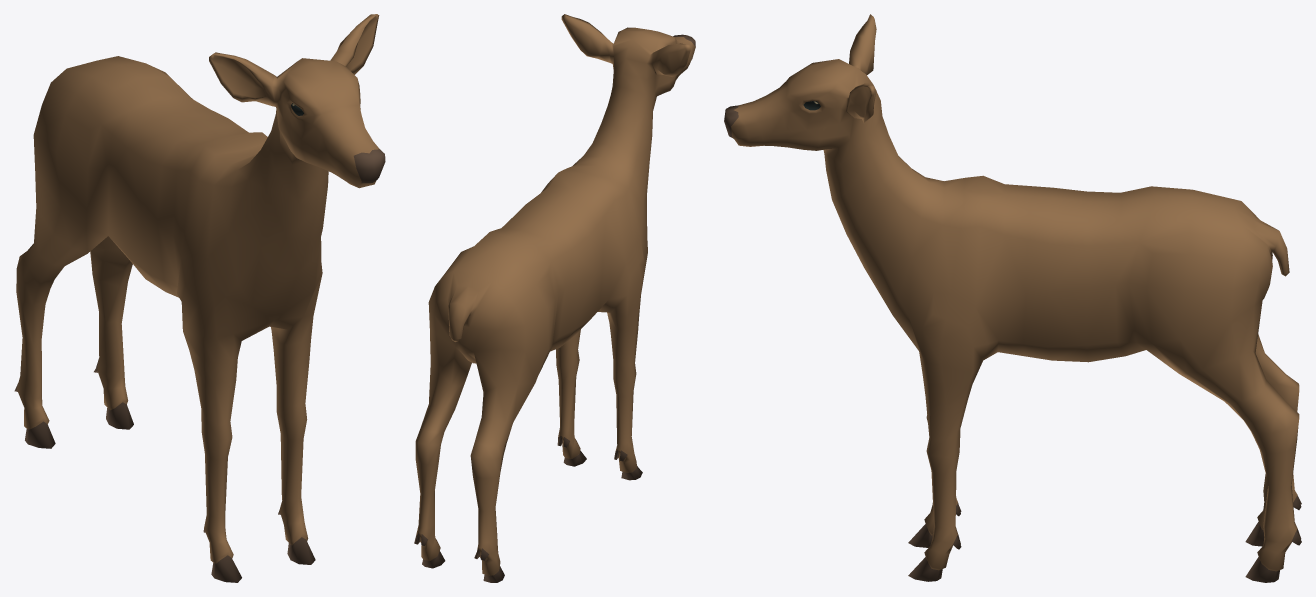
The model's file is deer-slender-doe.glb.
3 renders of one model, left to right at view 1: azimuth 30°, elevation 25°; view 2: azimuth 150°, elevation 25°; view 3: azimuth 270°, elevation 25°, orthographic. The views are drawn at different scales.
Parts seen in each view (by area): view 1: deer-slender-doe runtime mesh; view 2: deer-slender-doe runtime mesh; view 3: deer-slender-doe runtime mesh.
Boxes of the visible parts, left/top/right/bottom form: deer-slender-doe runtime mesh: left=14, top=14, right=385, bottom=582; deer-slender-doe runtime mesh: left=414, top=14, right=695, bottom=582; deer-slender-doe runtime mesh: left=724, top=14, right=1301, bottom=582.
Size of the model in its own units: 0.4653 by 1.45 by 1.49.
